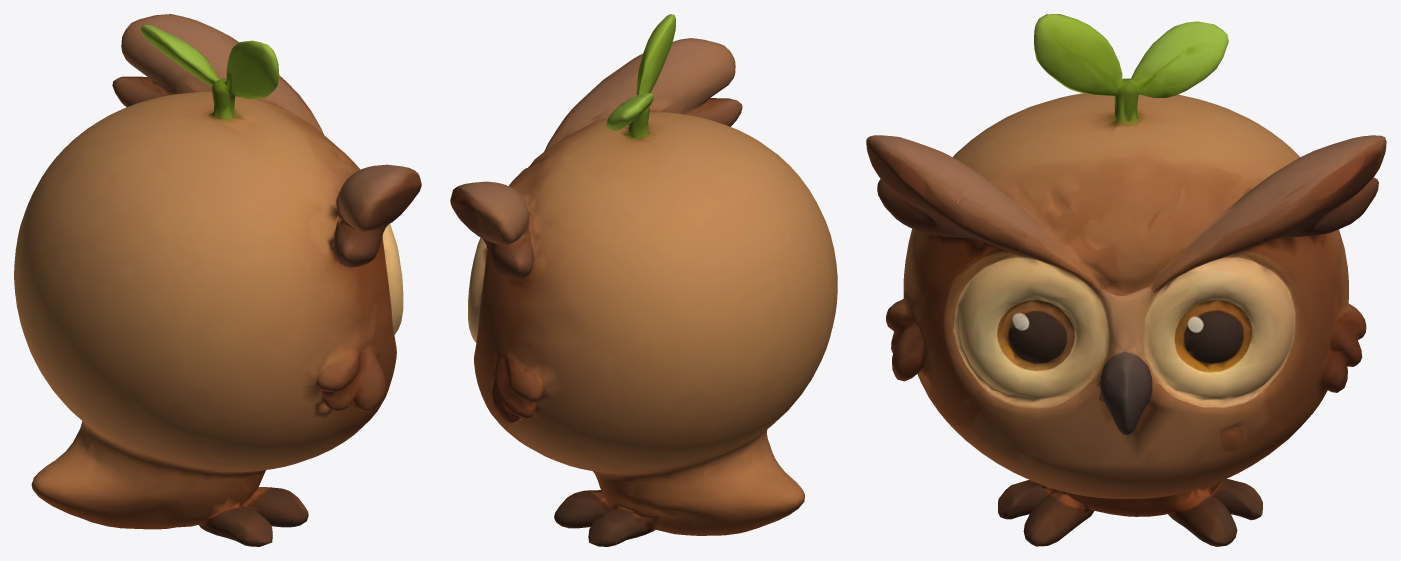
File: head.glb
3 renders of one model, left to right at view 1: azimuth 30°, elevation 25°; view 2: azimuth 150°, elevation 25°; view 3: azimuth 270°, elevation 25°, orthographic. The views are drawn at different scales.
Visible parts, largest first — view 1: tripo_node_705d0bc4-270c-4cce-b7d1-9018e079f078; view 2: tripo_node_705d0bc4-270c-4cce-b7d1-9018e079f078; view 3: tripo_node_705d0bc4-270c-4cce-b7d1-9018e079f078.
Part boxes in pixels (left/top/right/bottom): tripo_node_705d0bc4-270c-4cce-b7d1-9018e079f078: left=14, top=14, right=421, bottom=546; tripo_node_705d0bc4-270c-4cce-b7d1-9018e079f078: left=450, top=14, right=837, bottom=546; tripo_node_705d0bc4-270c-4cce-b7d1-9018e079f078: left=866, top=14, right=1386, bottom=546.
Bounding box in the file's own units: 0.7569 × 1 × 0.9177.
Materials: 1 (1 with a texture image).
